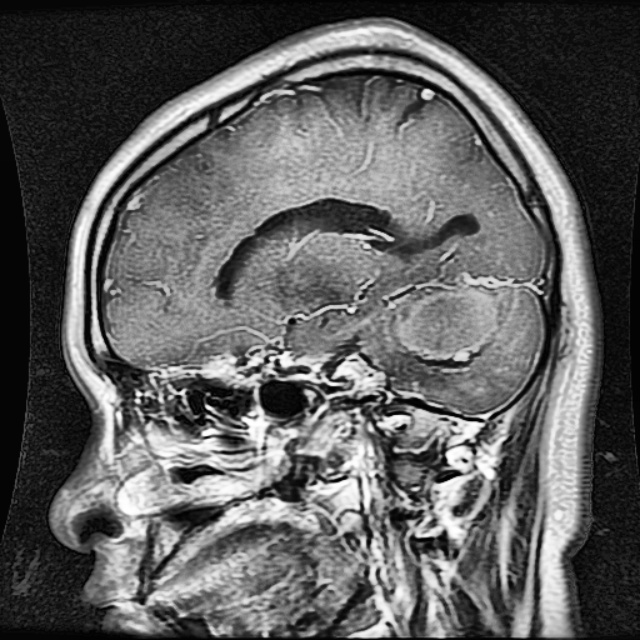Meningioma: (394, 283, 503, 368)
